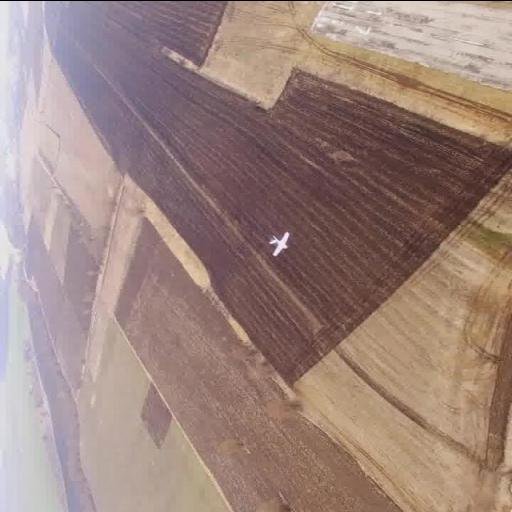uav: (264, 223, 298, 265)
